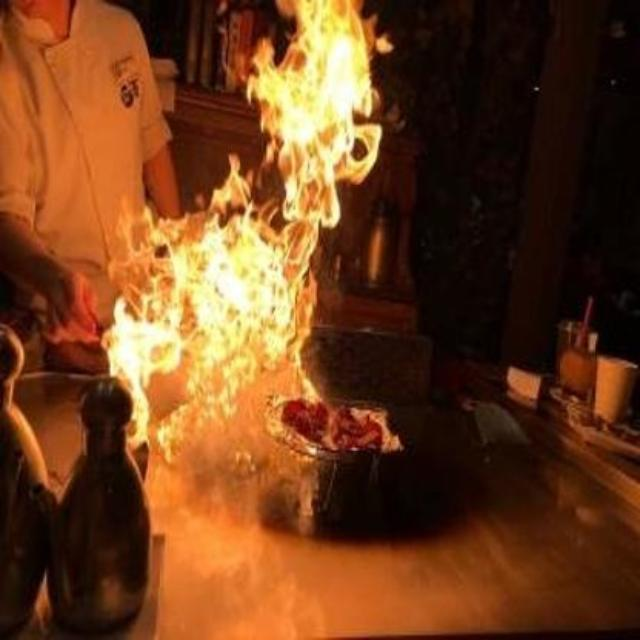Fire: (104, 4, 396, 480)
